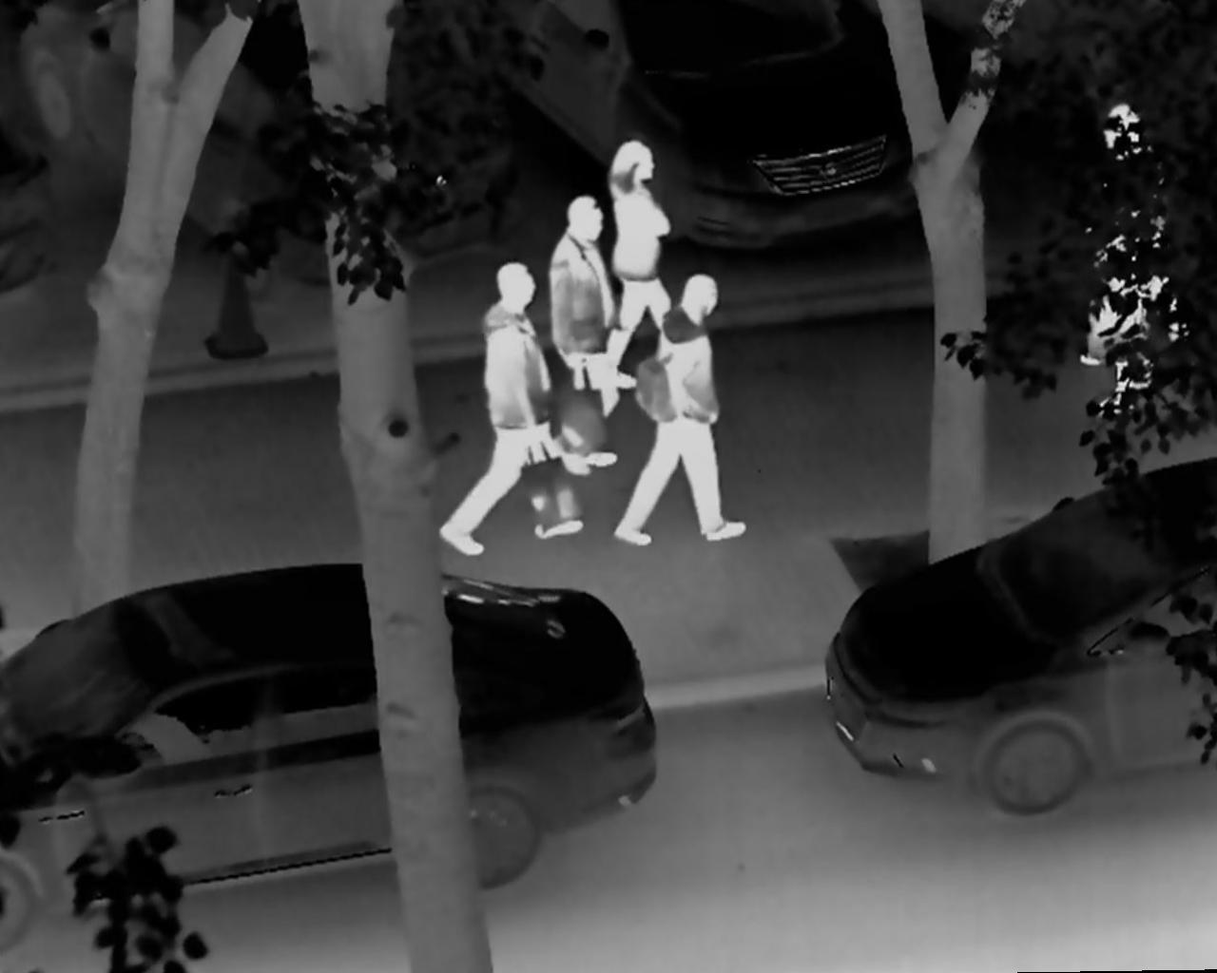person: (440, 251, 580, 561), (611, 265, 754, 559), (1079, 101, 1179, 368), (537, 193, 630, 473), (1086, 289, 1200, 475)
